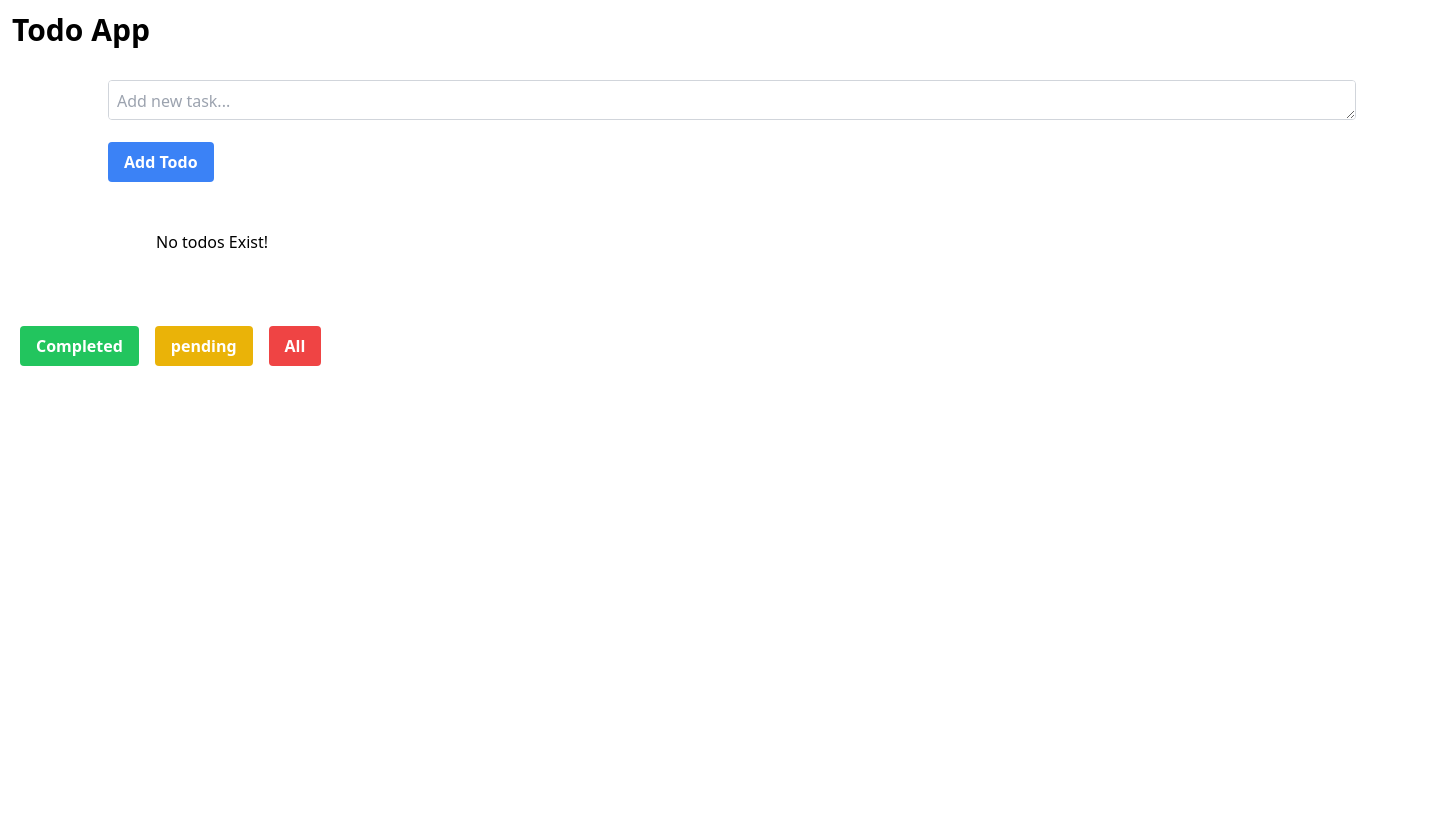
Test: adds a new todo
This screenshot has width=1452, height=822.
Type "New Task" into the text box with placeholder "Add new task..." at (732, 100), box [108,80,1356,120]
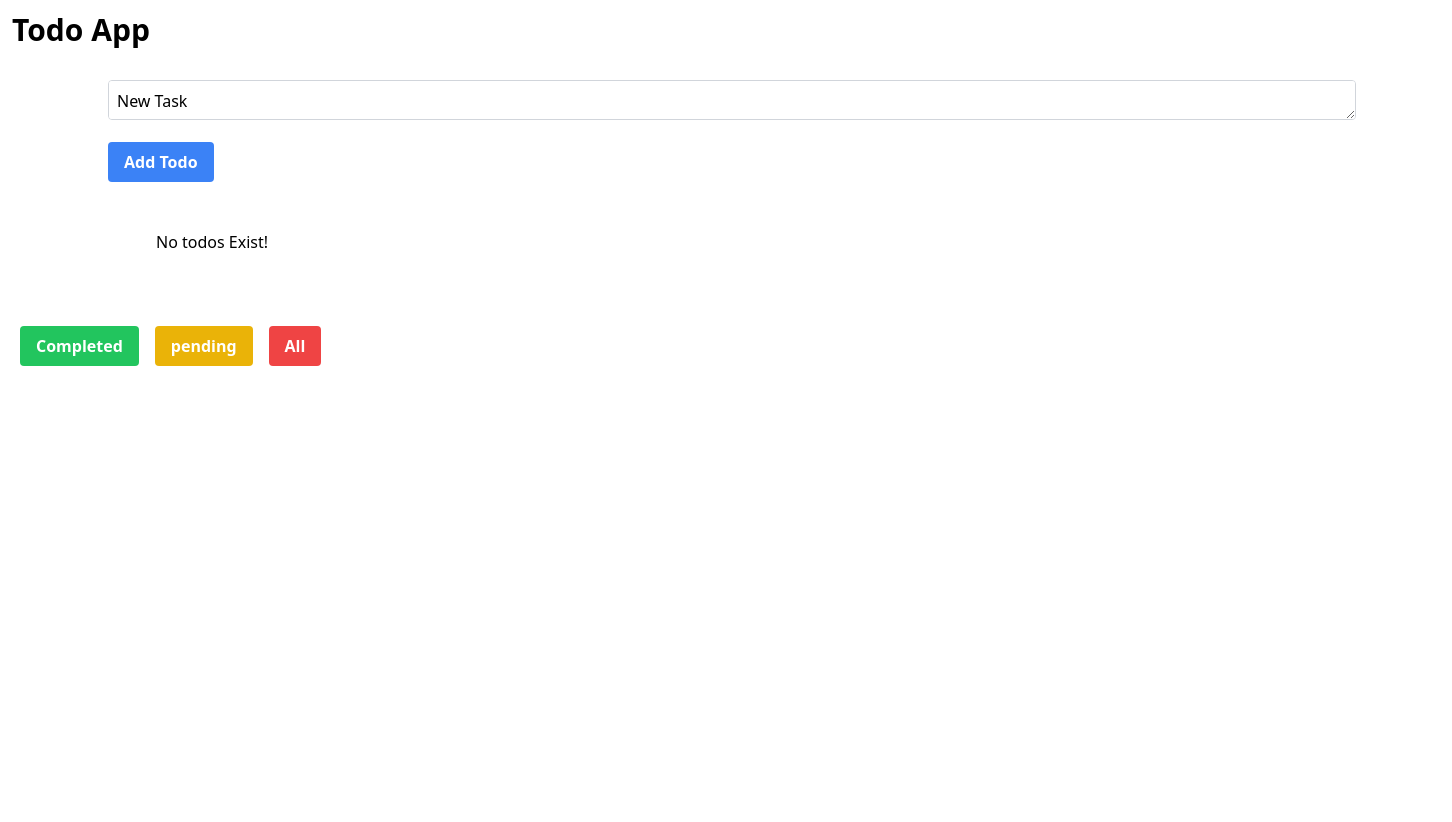
Click the button "Add Todo" at (161, 162), box [108,142,214,182]
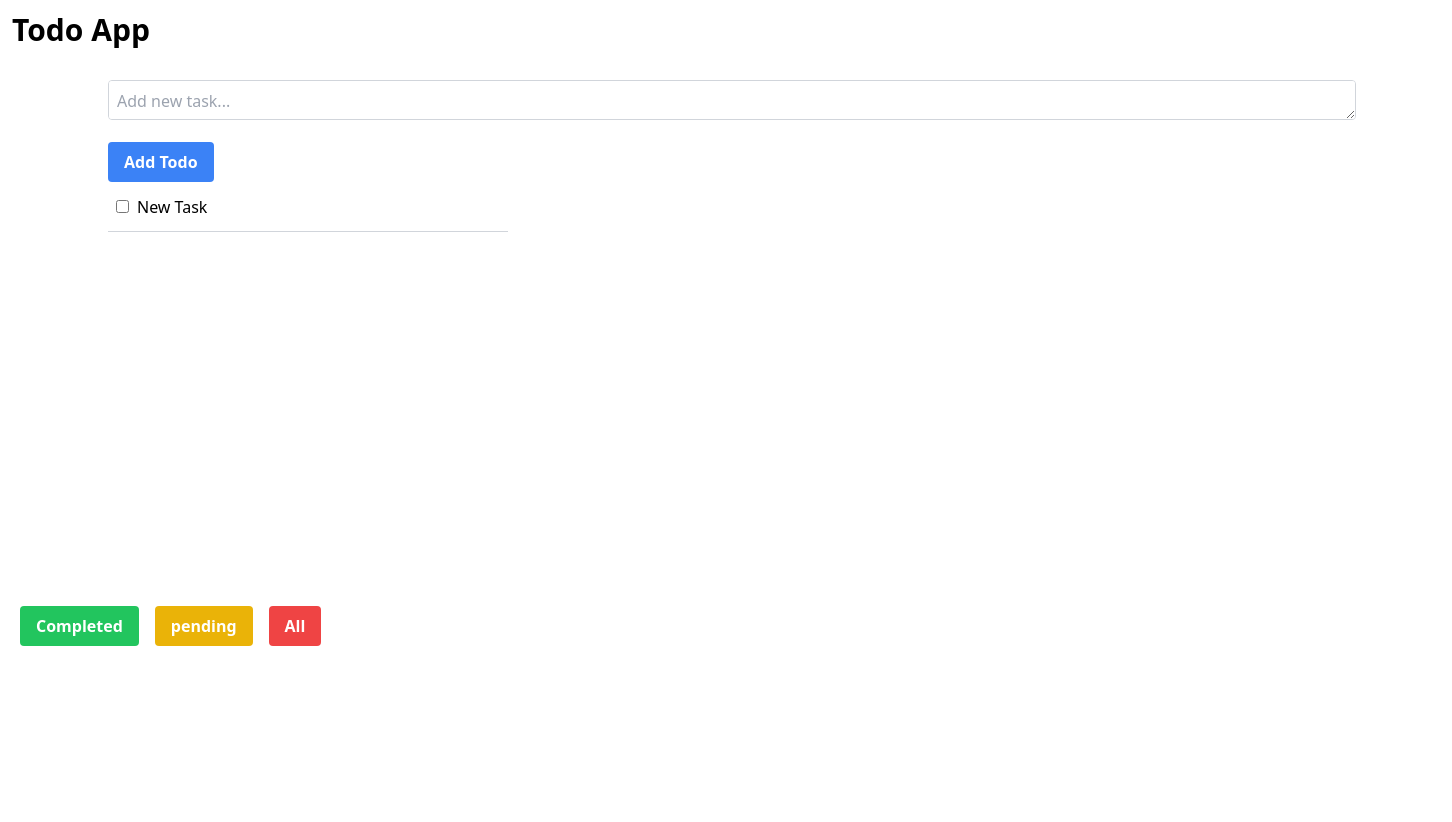
Check: the text "New Task" is shown, box [137,194,207,218]
